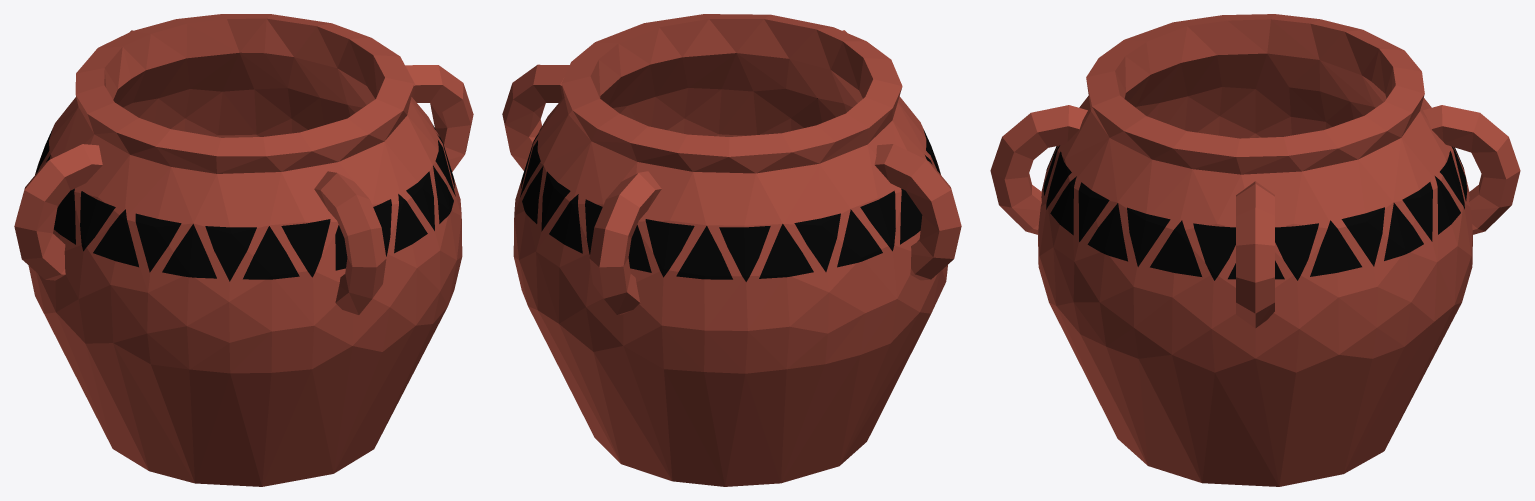
The model's file is Pottery 18_2b.fbx.
The picture shows the model from 3 angles, left to right: view 1: azimuth 30°, elevation 25°; view 2: azimuth 150°, elevation 25°; view 3: azimuth 270°, elevation 25°; orthographic projection.
Parts seen in each view (by area): view 1: Pottery 18_2b.001, Pottery 18_2b.006, Pottery 18_2b.005, Pottery 18_2b.004, Pottery 18_2b.007, Pottery 18_2b, Pottery 18_2b.003, Pottery 18_2b.002; view 2: Pottery 18_2b.005, Pottery 18_2b.004, Pottery 18_2b, Pottery 18_2b.002, Pottery 18_2b.001, Pottery 18_2b.003, Pottery 18_2b.006; view 3: Pottery 18_2b.003, Pottery 18_2b.002, Pottery 18_2b.004, Pottery 18_2b.005, Pottery 18_2b, Pottery 18_2b.001, Pottery 18_2b.007, Pottery 18_2b.006.
Part boxes in pixels (bbox=[...]): Pottery 18_2b.001: bbox=[156, 99, 416, 345]; Pottery 18_2b.006: bbox=[85, 167, 271, 445]; Pottery 18_2b.005: bbox=[14, 46, 170, 359]; Pottery 18_2b.004: bbox=[98, 14, 292, 137]; Pottery 18_2b.007: bbox=[265, 268, 447, 445]; Pottery 18_2b: bbox=[64, 344, 404, 486]; Pottery 18_2b.003: bbox=[264, 14, 473, 171]; Pottery 18_2b.002: bbox=[367, 55, 462, 305]; Pottery 18_2b.005: bbox=[704, 79, 961, 415]; Pottery 18_2b.004: bbox=[519, 98, 729, 411]; Pottery 18_2b: bbox=[528, 307, 930, 486]; Pottery 18_2b.002: bbox=[595, 14, 756, 136]; Pottery 18_2b.001: bbox=[704, 14, 919, 134]; Pottery 18_2b.003: bbox=[502, 42, 620, 304]; Pottery 18_2b.006: bbox=[898, 102, 947, 312]; Pottery 18_2b.003: bbox=[1208, 115, 1411, 425]; Pottery 18_2b.002: bbox=[1053, 116, 1240, 358]; Pottery 18_2b.004: bbox=[1365, 49, 1520, 381]; Pottery 18_2b.005: bbox=[1174, 14, 1403, 138]; Pottery 18_2b: bbox=[1093, 347, 1420, 486]; Pottery 18_2b.001: bbox=[990, 22, 1187, 264]; Pottery 18_2b.007: bbox=[1038, 247, 1214, 425]; Pottery 18_2b.006: bbox=[1136, 63, 1187, 130].
Bounding box in the file's own units: 87.53 × 63.93 × 87.53.
